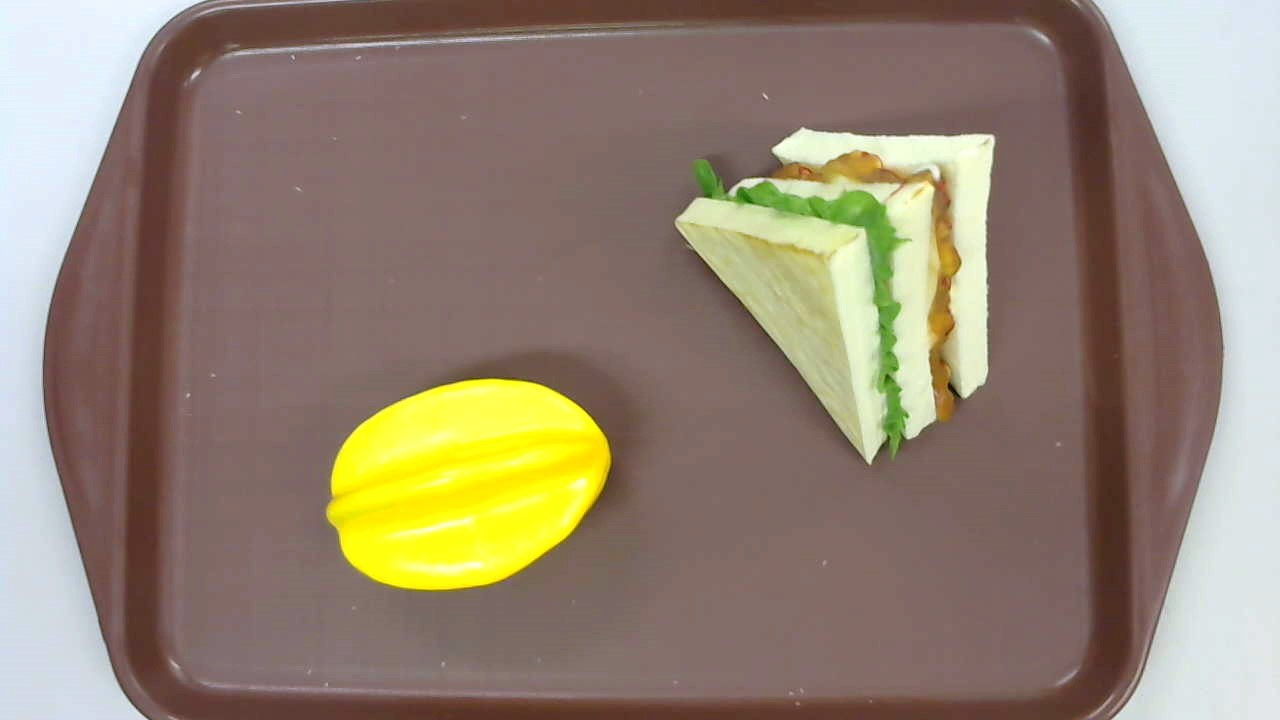sandwich: (673, 125, 995, 467)
star fruit: (325, 378, 612, 591)
